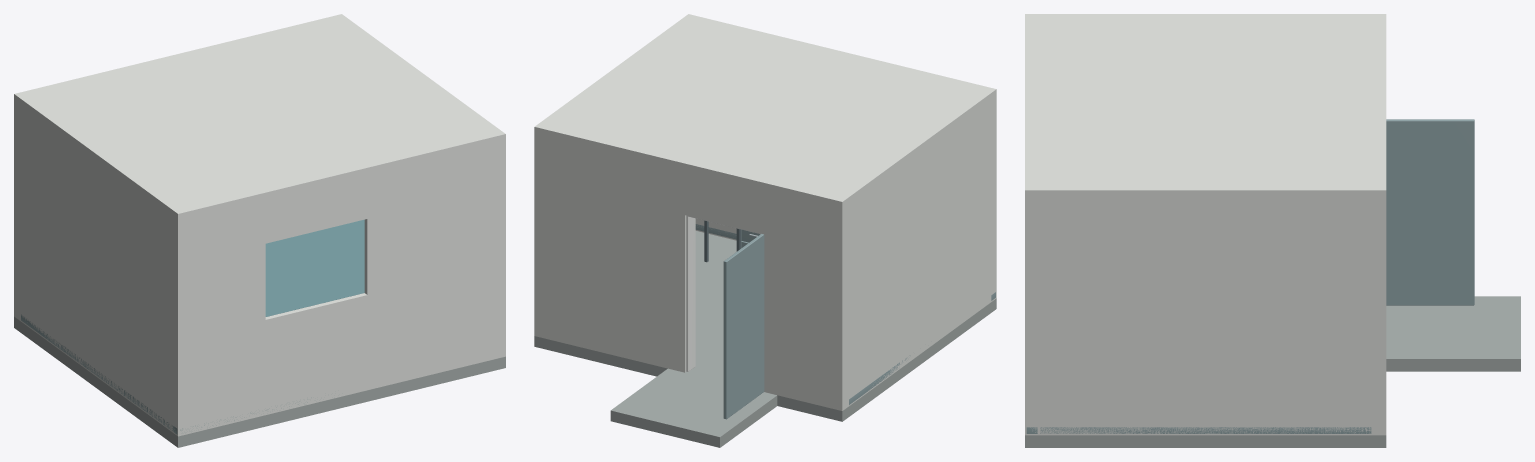
Rendered from Engineering.fbx.
3 renders of one model, left to right at view 1: azimuth 30°, elevation 25°; view 2: azimuth 150°, elevation 25°; view 3: azimuth 270°, elevation 25°, orthographic. The views are drawn at different scales.
Visible parts, largest first — view 1: Wall-north.003, Ceiling.003, Wall-west.003, Window-glazing.003, Floor.003, Wall-south.003, Coved-base-west.003; view 2: Wall-south.003, Ceiling.003, Wall-west.003, Floor.003, Entry-landing.003, Door-open.003, Wall-north.003, Door-jamb.007; view 3: Wall-east.003, Ceiling.003, Door-open.003, Entry-landing.003, Floor.003, Wall-south.003, Wall-north.003, Coved-base-east.003.
Part boxes in pixels (bbox=[...]): Wall-north.003: bbox=[171, 143, 505, 436]; Ceiling.003: bbox=[14, 14, 505, 222]; Wall-west.003: bbox=[20, 108, 171, 431]; Window-glazing.003: bbox=[265, 219, 364, 316]; Floor.003: bbox=[14, 316, 505, 447]; Wall-south.003: bbox=[14, 103, 20, 320]; Coved-base-west.003: bbox=[21, 314, 171, 429]; Wall-south.003: bbox=[534, 135, 848, 410]; Ceiling.003: bbox=[534, 14, 996, 210]; Wall-west.003: bbox=[848, 102, 990, 406]; Floor.003: bbox=[534, 231, 996, 421]; Entry-landing.003: bbox=[610, 368, 777, 447]; Door-open.003: bbox=[723, 234, 764, 419]; Wall-north.003: bbox=[695, 98, 996, 302]; Door-jamb.007: bbox=[686, 215, 695, 371]; Wall-east.003: bbox=[1039, 200, 1372, 435]; Ceiling.003: bbox=[1025, 14, 1386, 200]; Door-open.003: bbox=[1386, 119, 1474, 305]; Entry-landing.003: bbox=[1386, 296, 1520, 371]; Floor.003: bbox=[1025, 435, 1386, 447]; Wall-south.003: bbox=[1372, 200, 1386, 435]; Wall-north.003: bbox=[1025, 200, 1038, 435]; Coved-base-east.003: bbox=[1040, 427, 1371, 433].
Bounding box in the file's own units: 450 × 307 × 535.
